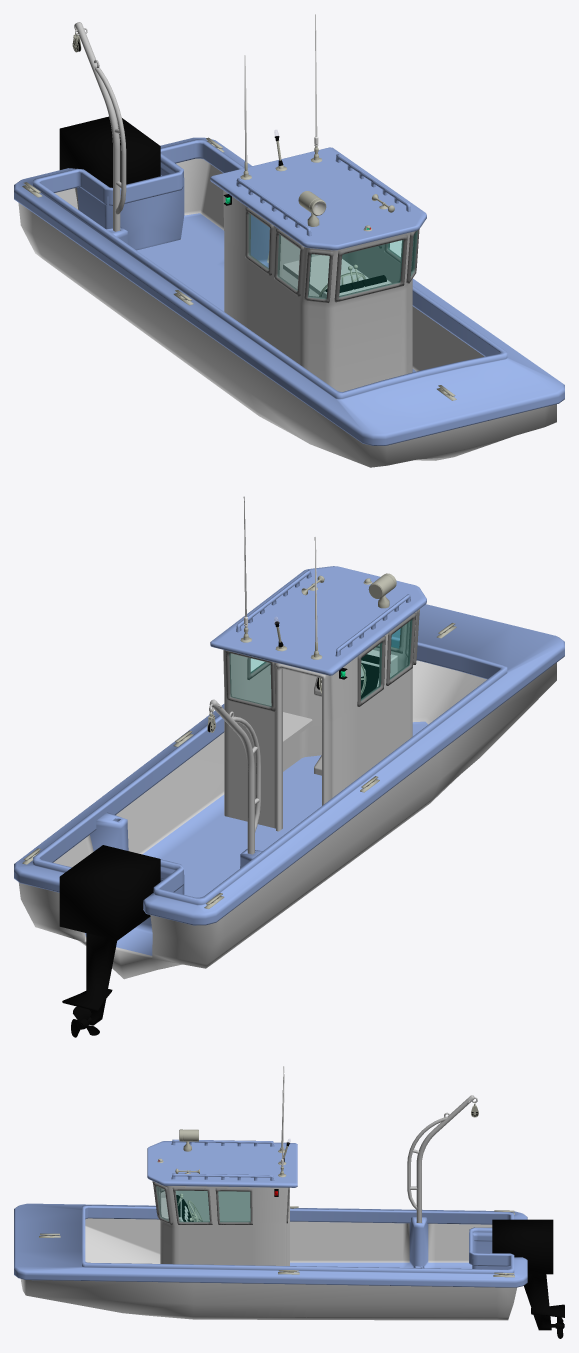
Rendered from garvey-work-boat.dae.
The picture shows the model from 3 angles, top to bottom: view 1: azimuth 30°, elevation 25°; view 2: azimuth 150°, elevation 25°; view 3: azimuth 270°, elevation 25°; orthographic projection. The views are drawn at different scales.
Parts seen in each view (by area): view 1: railing, pilot_house, hull, interior, windows, outboard, window_gaskets, davit, nav_table, handrails, spotlight; view 2: pilot_house, railing, hull, interior, outboard, windows, window_gaskets, davit, handrails; view 3: railing, hull, pilot_house, interior, outboard, windows, window_gaskets, davit, handrails.
Boxes of the visible parts, bbox=[...] form: railing: bbox=[14, 137, 564, 445]; pilot_house: bbox=[210, 147, 426, 391]; hull: bbox=[18, 177, 556, 467]; interior: bbox=[54, 158, 484, 372]; windows: bbox=[249, 214, 416, 298]; outboard: bbox=[59, 116, 160, 187]; window_gaskets: bbox=[245, 207, 419, 302]; davit: bbox=[74, 22, 126, 231]; nav_table: bbox=[283, 255, 368, 294]; handrails: bbox=[236, 154, 410, 236]; spotlight: bbox=[298, 191, 326, 226]; pilot_house: bbox=[210, 566, 426, 831]; railing: bbox=[14, 604, 564, 925]; hull: bbox=[18, 663, 556, 979]; interior: bbox=[53, 660, 486, 897]; outboard: bbox=[59, 845, 160, 1025]; windows: bbox=[230, 620, 411, 706]; window_gaskets: bbox=[225, 609, 419, 711]; davit: bbox=[209, 699, 260, 854]; handrails: bbox=[236, 570, 410, 656]; railing: bbox=[14, 1203, 527, 1287]; hull: bbox=[20, 1241, 516, 1320]; pilot_house: bbox=[147, 1141, 297, 1265]; interior: bbox=[85, 1217, 492, 1268]; outboard: bbox=[492, 1219, 564, 1330]; windows: bbox=[156, 1186, 249, 1221]; window_gaskets: bbox=[152, 1181, 289, 1224]; davit: bbox=[407, 1095, 477, 1222]; handrails: bbox=[171, 1139, 274, 1180].
Bounding box in the file's own units: 13.99 × 47.01 × 25.77.
